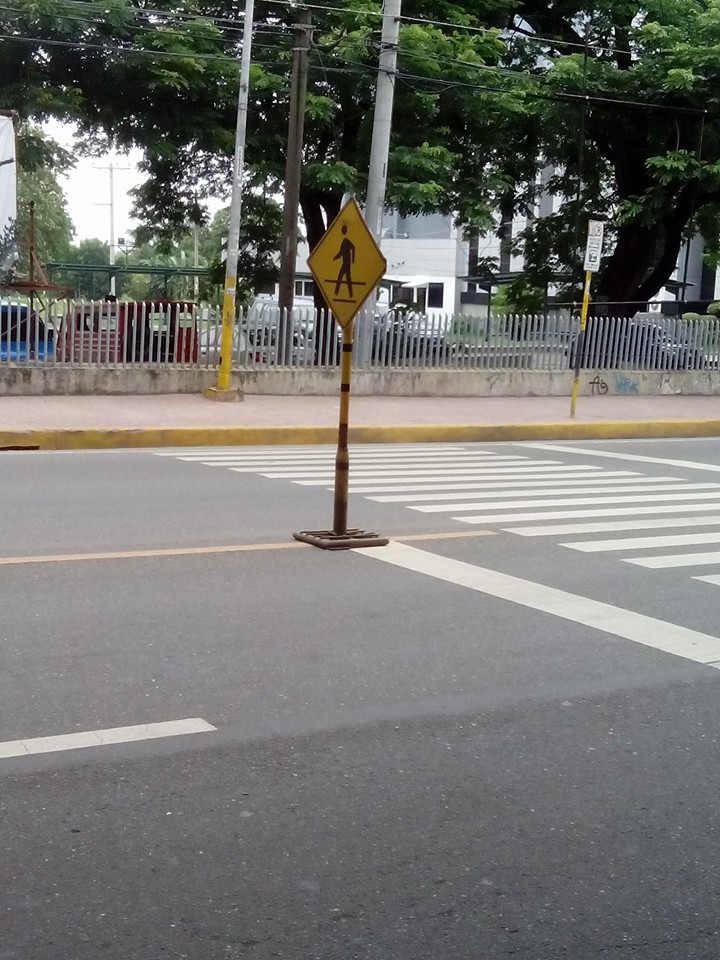pedestrian lane: (155, 443, 720, 669)
pole: (308, 200, 380, 551), (211, 12, 255, 404), (358, 6, 398, 367), (568, 273, 591, 422)
